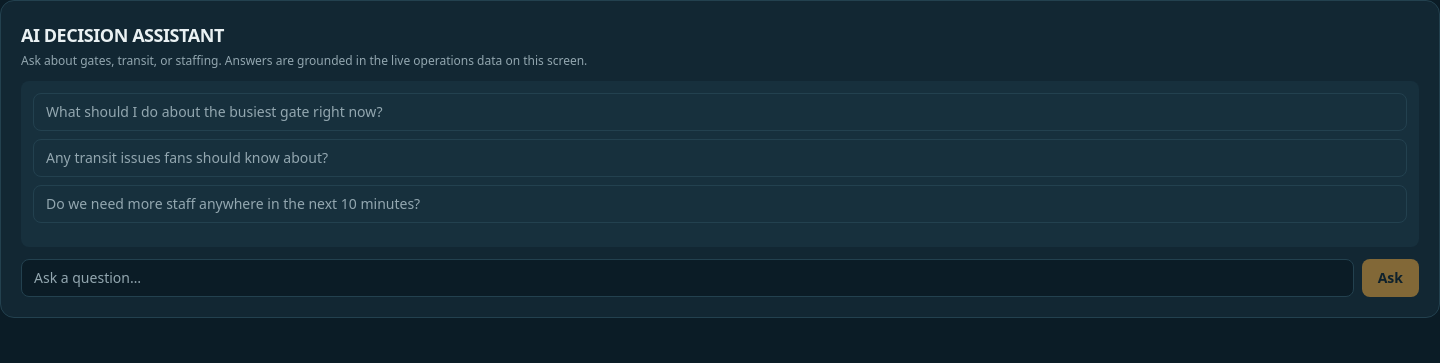
it: DecisionAssistantPanel › disables the ask button while a token has not loaded yet and shows a message on send attempt
Step 1. Type "Hello" into the field named "ask the decision assistant" → (687, 278), box [21,259,1354,297]
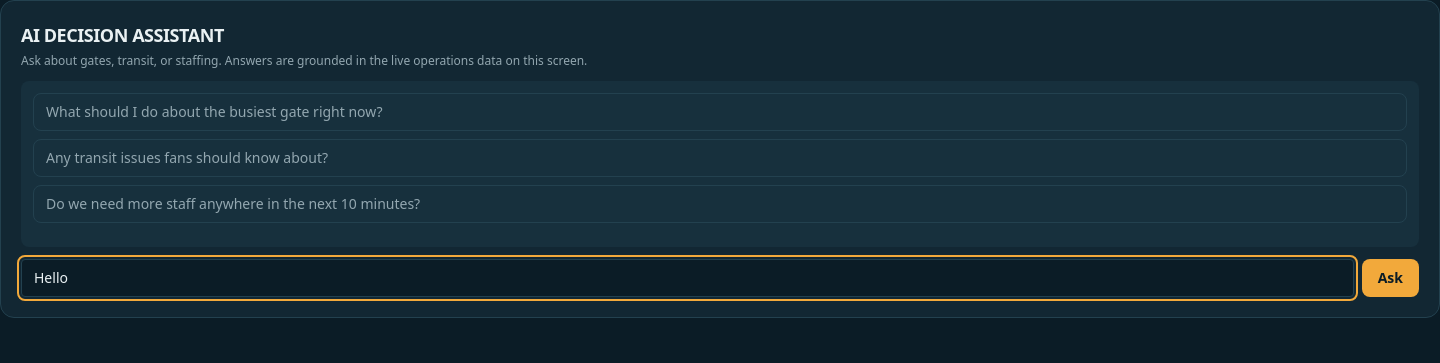
Step 2. Click the button "Ask" → (1390, 278), box [1362,259,1419,297]
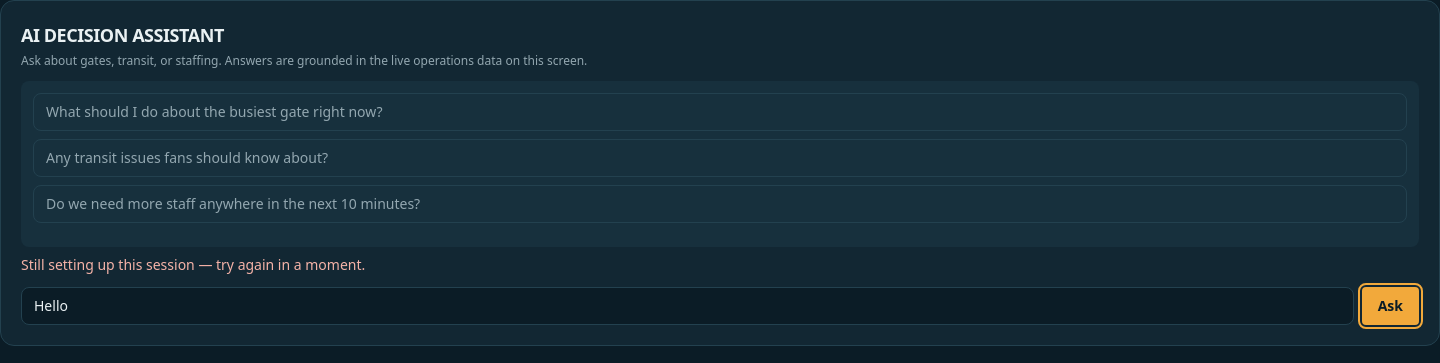
Now the message shows "Still setting up", box [21,255,365,274]
